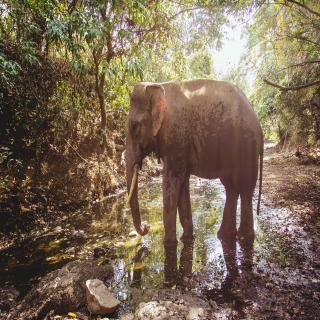Elephant: (123, 75, 268, 251)
